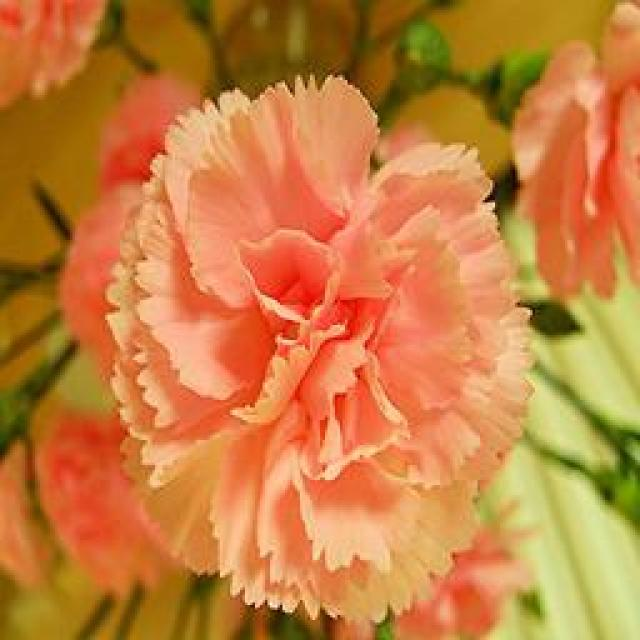carnation: (88, 87, 546, 613)
